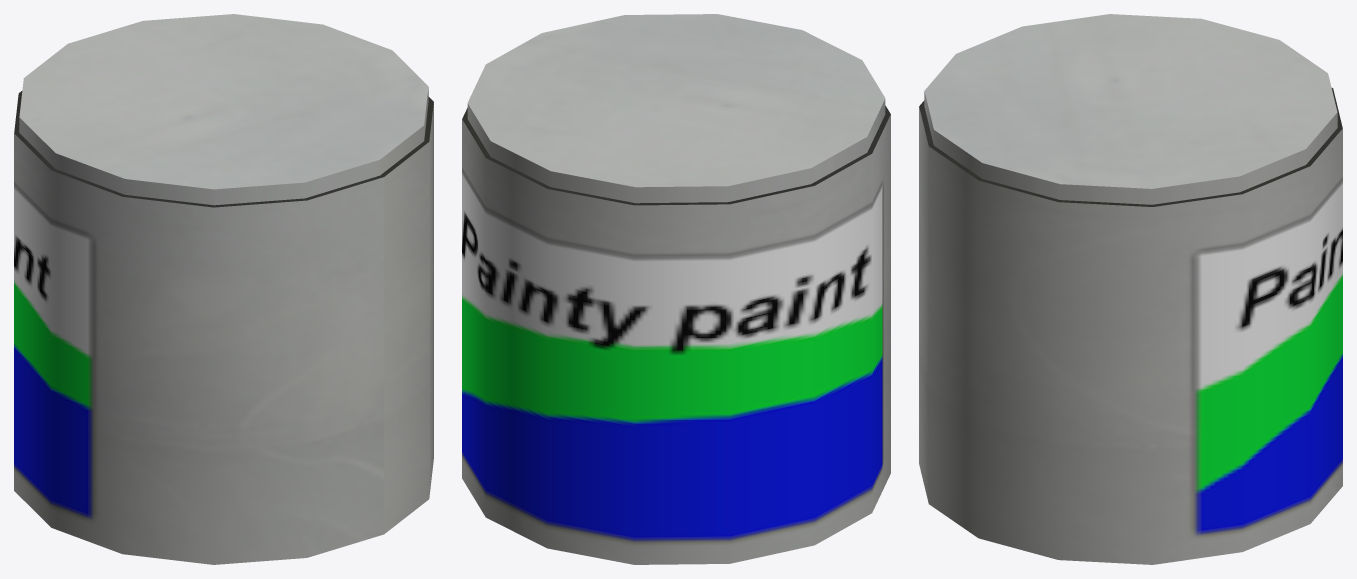
Rendered from paint.fbx.
3 renders of one model, left to right at view 1: azimuth 30°, elevation 25°; view 2: azimuth 150°, elevation 25°; view 3: azimuth 270°, elevation 25°, orthographic.
Visible parts, largest first — view 1: paint; view 2: paint; view 3: paint.
Boxes of the visible parts, x1=… form: paint: x1=14, y1=14, x2=433, y2=564; paint: x1=462, y1=14, x2=890, y2=564; paint: x1=919, y1=14, x2=1342, y2=564.
Size of the model in its own units: 0.2317 by 0.225 by 0.2311.
